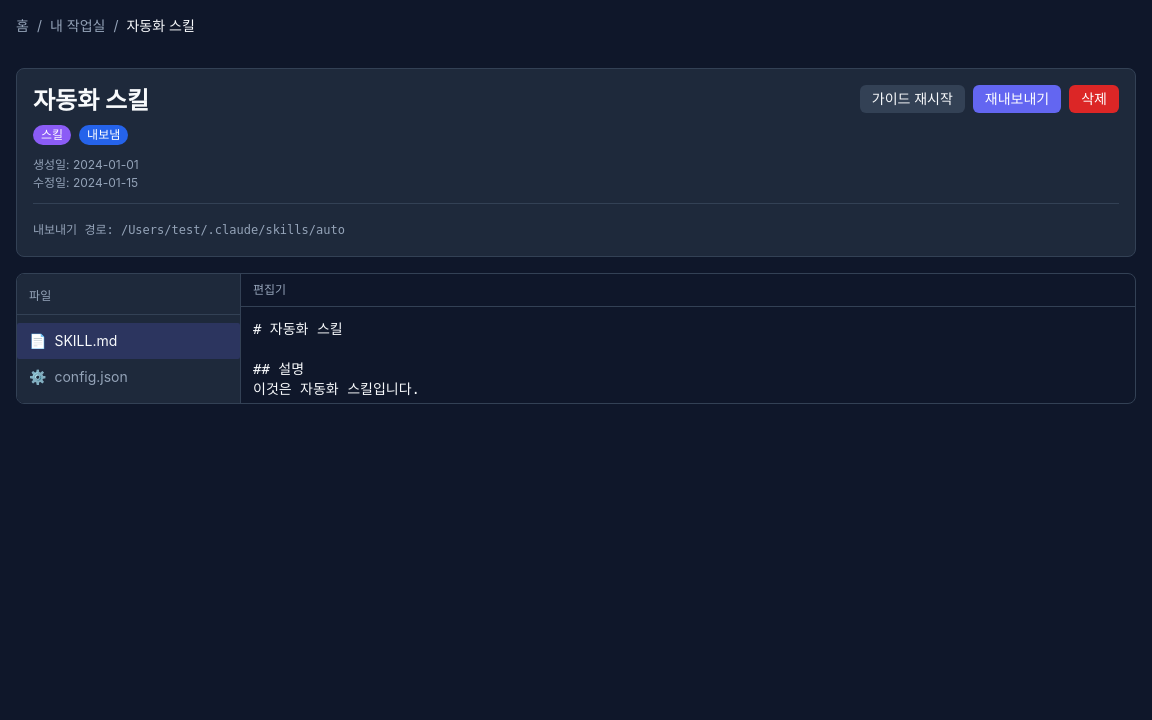
WorkDetail Integration › 시나리오 4: 삭제 › 삭제 실패 시 에러 토스트를 표시하고 모달이 닫힌다
Click the button "삭제": (1094, 99) [1069, 85, 1119, 113]
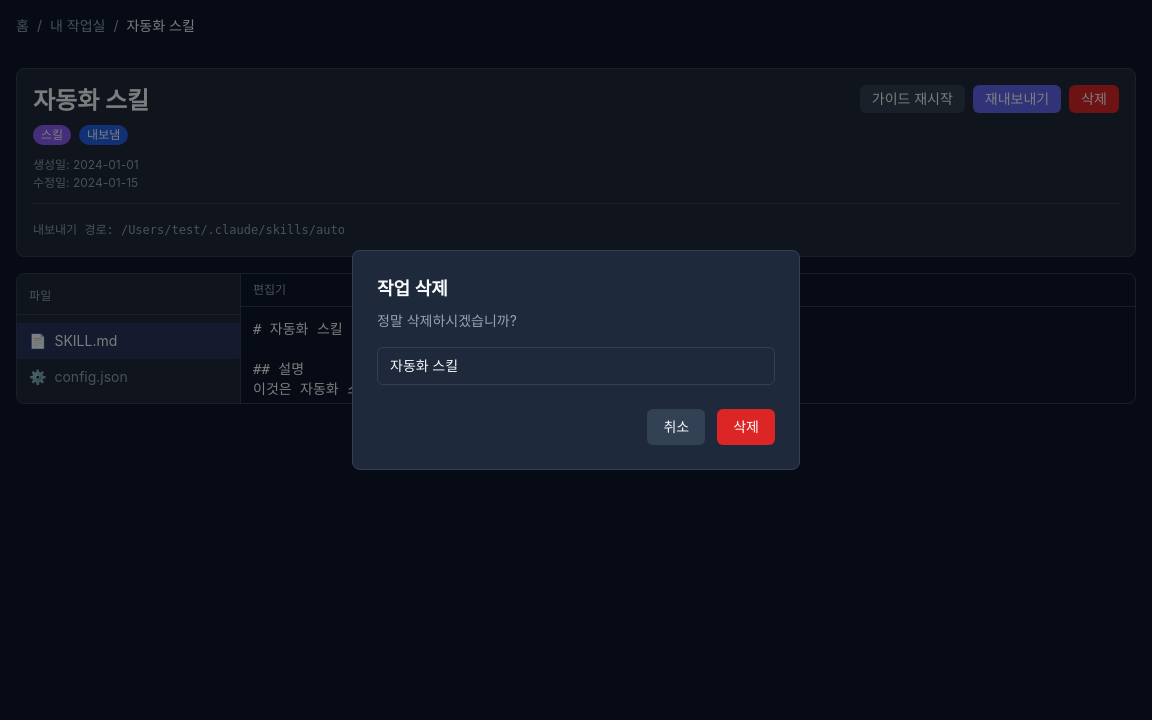
Result: the dialog named "삭제 확인" is shown at [352, 250, 800, 470]
Click the button with aria-label "삭제 확인": (746, 427) [717, 409, 775, 445]
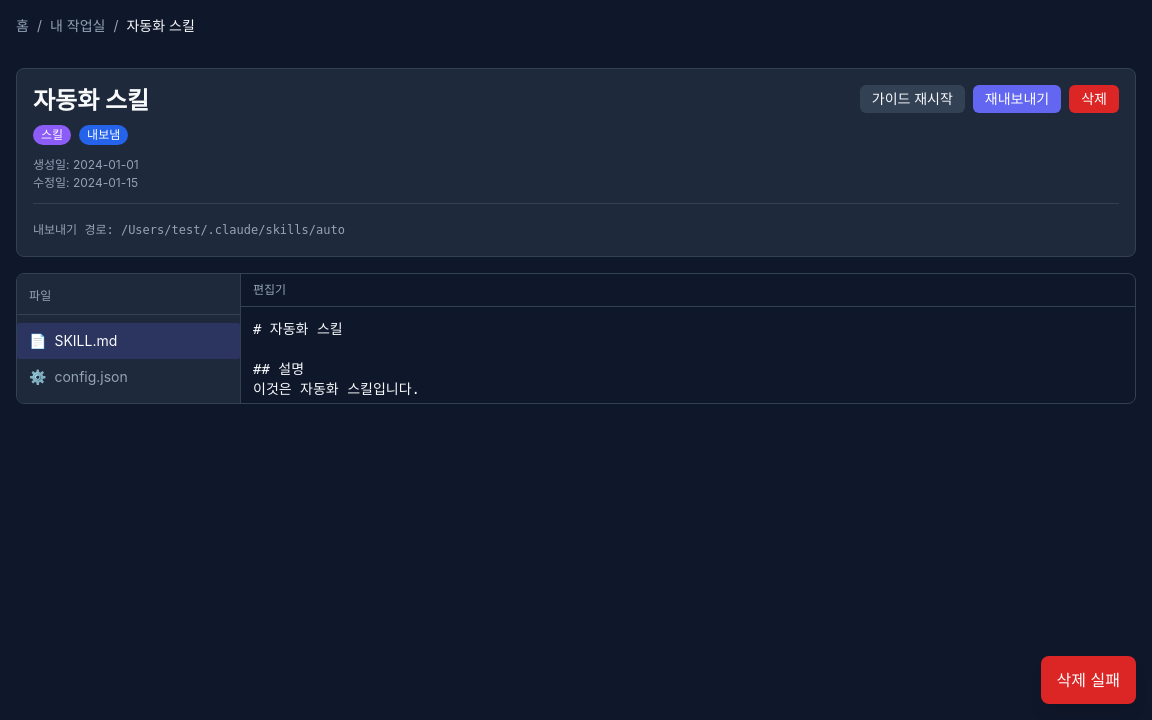
Result: the message "삭제 실패" is shown at [1041, 656, 1136, 704]
